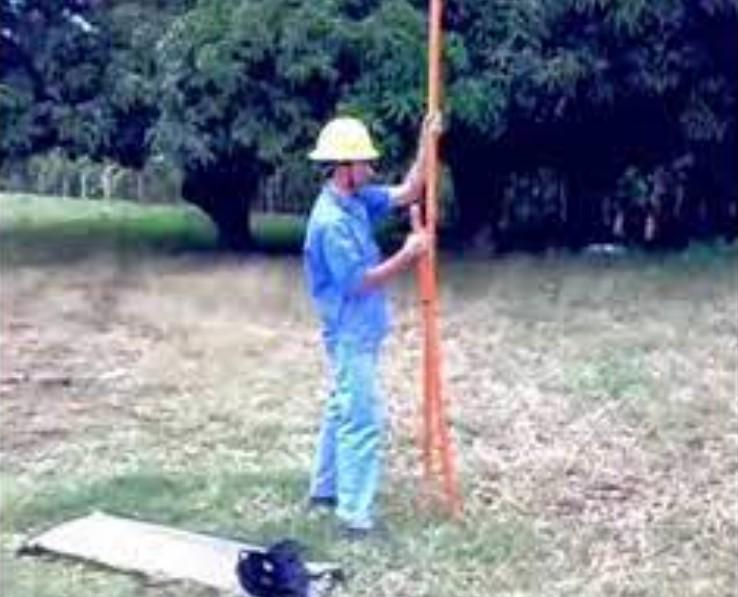Vara_Manobra: (420, 1, 443, 479)
